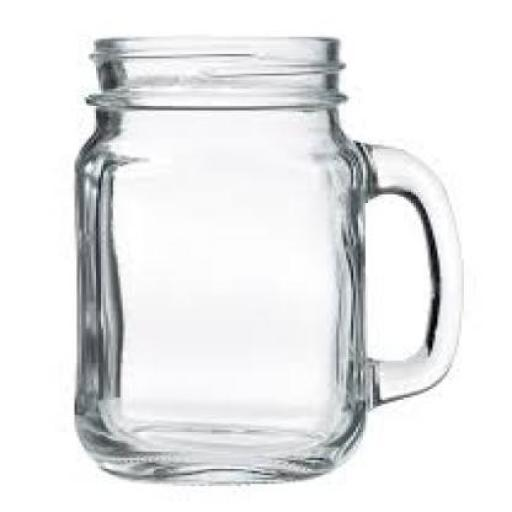glass: (72, 37, 460, 489)
